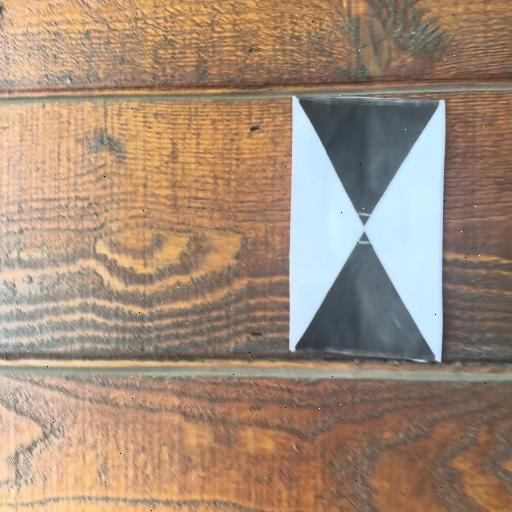target: (293, 98, 442, 358)
